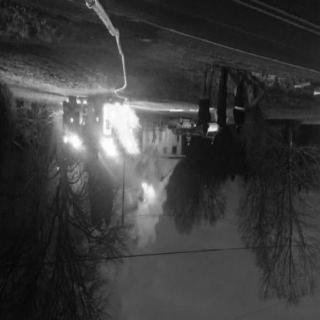Fire: (64, 128, 86, 158)
